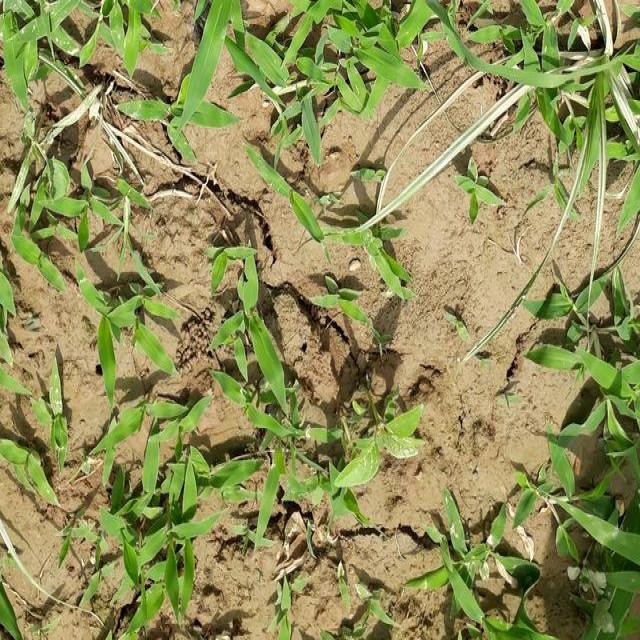weed: (0, 0, 404, 537), (525, 273, 640, 640), (426, 7, 640, 203)
